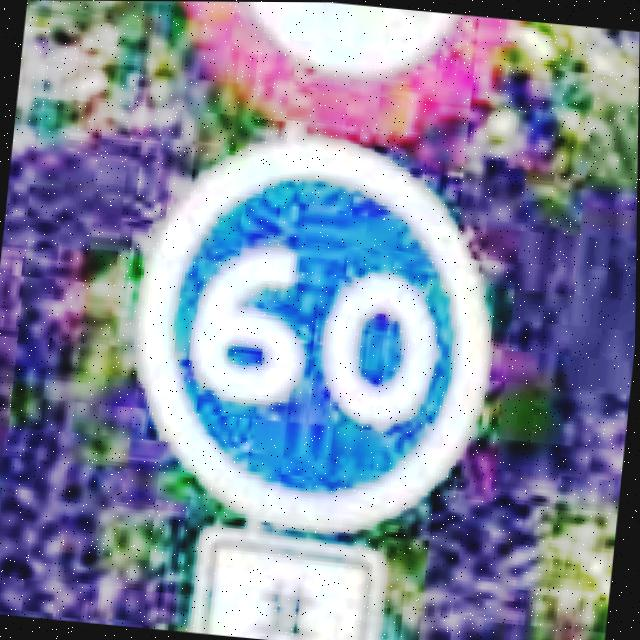min60: (111, 117, 513, 543)
